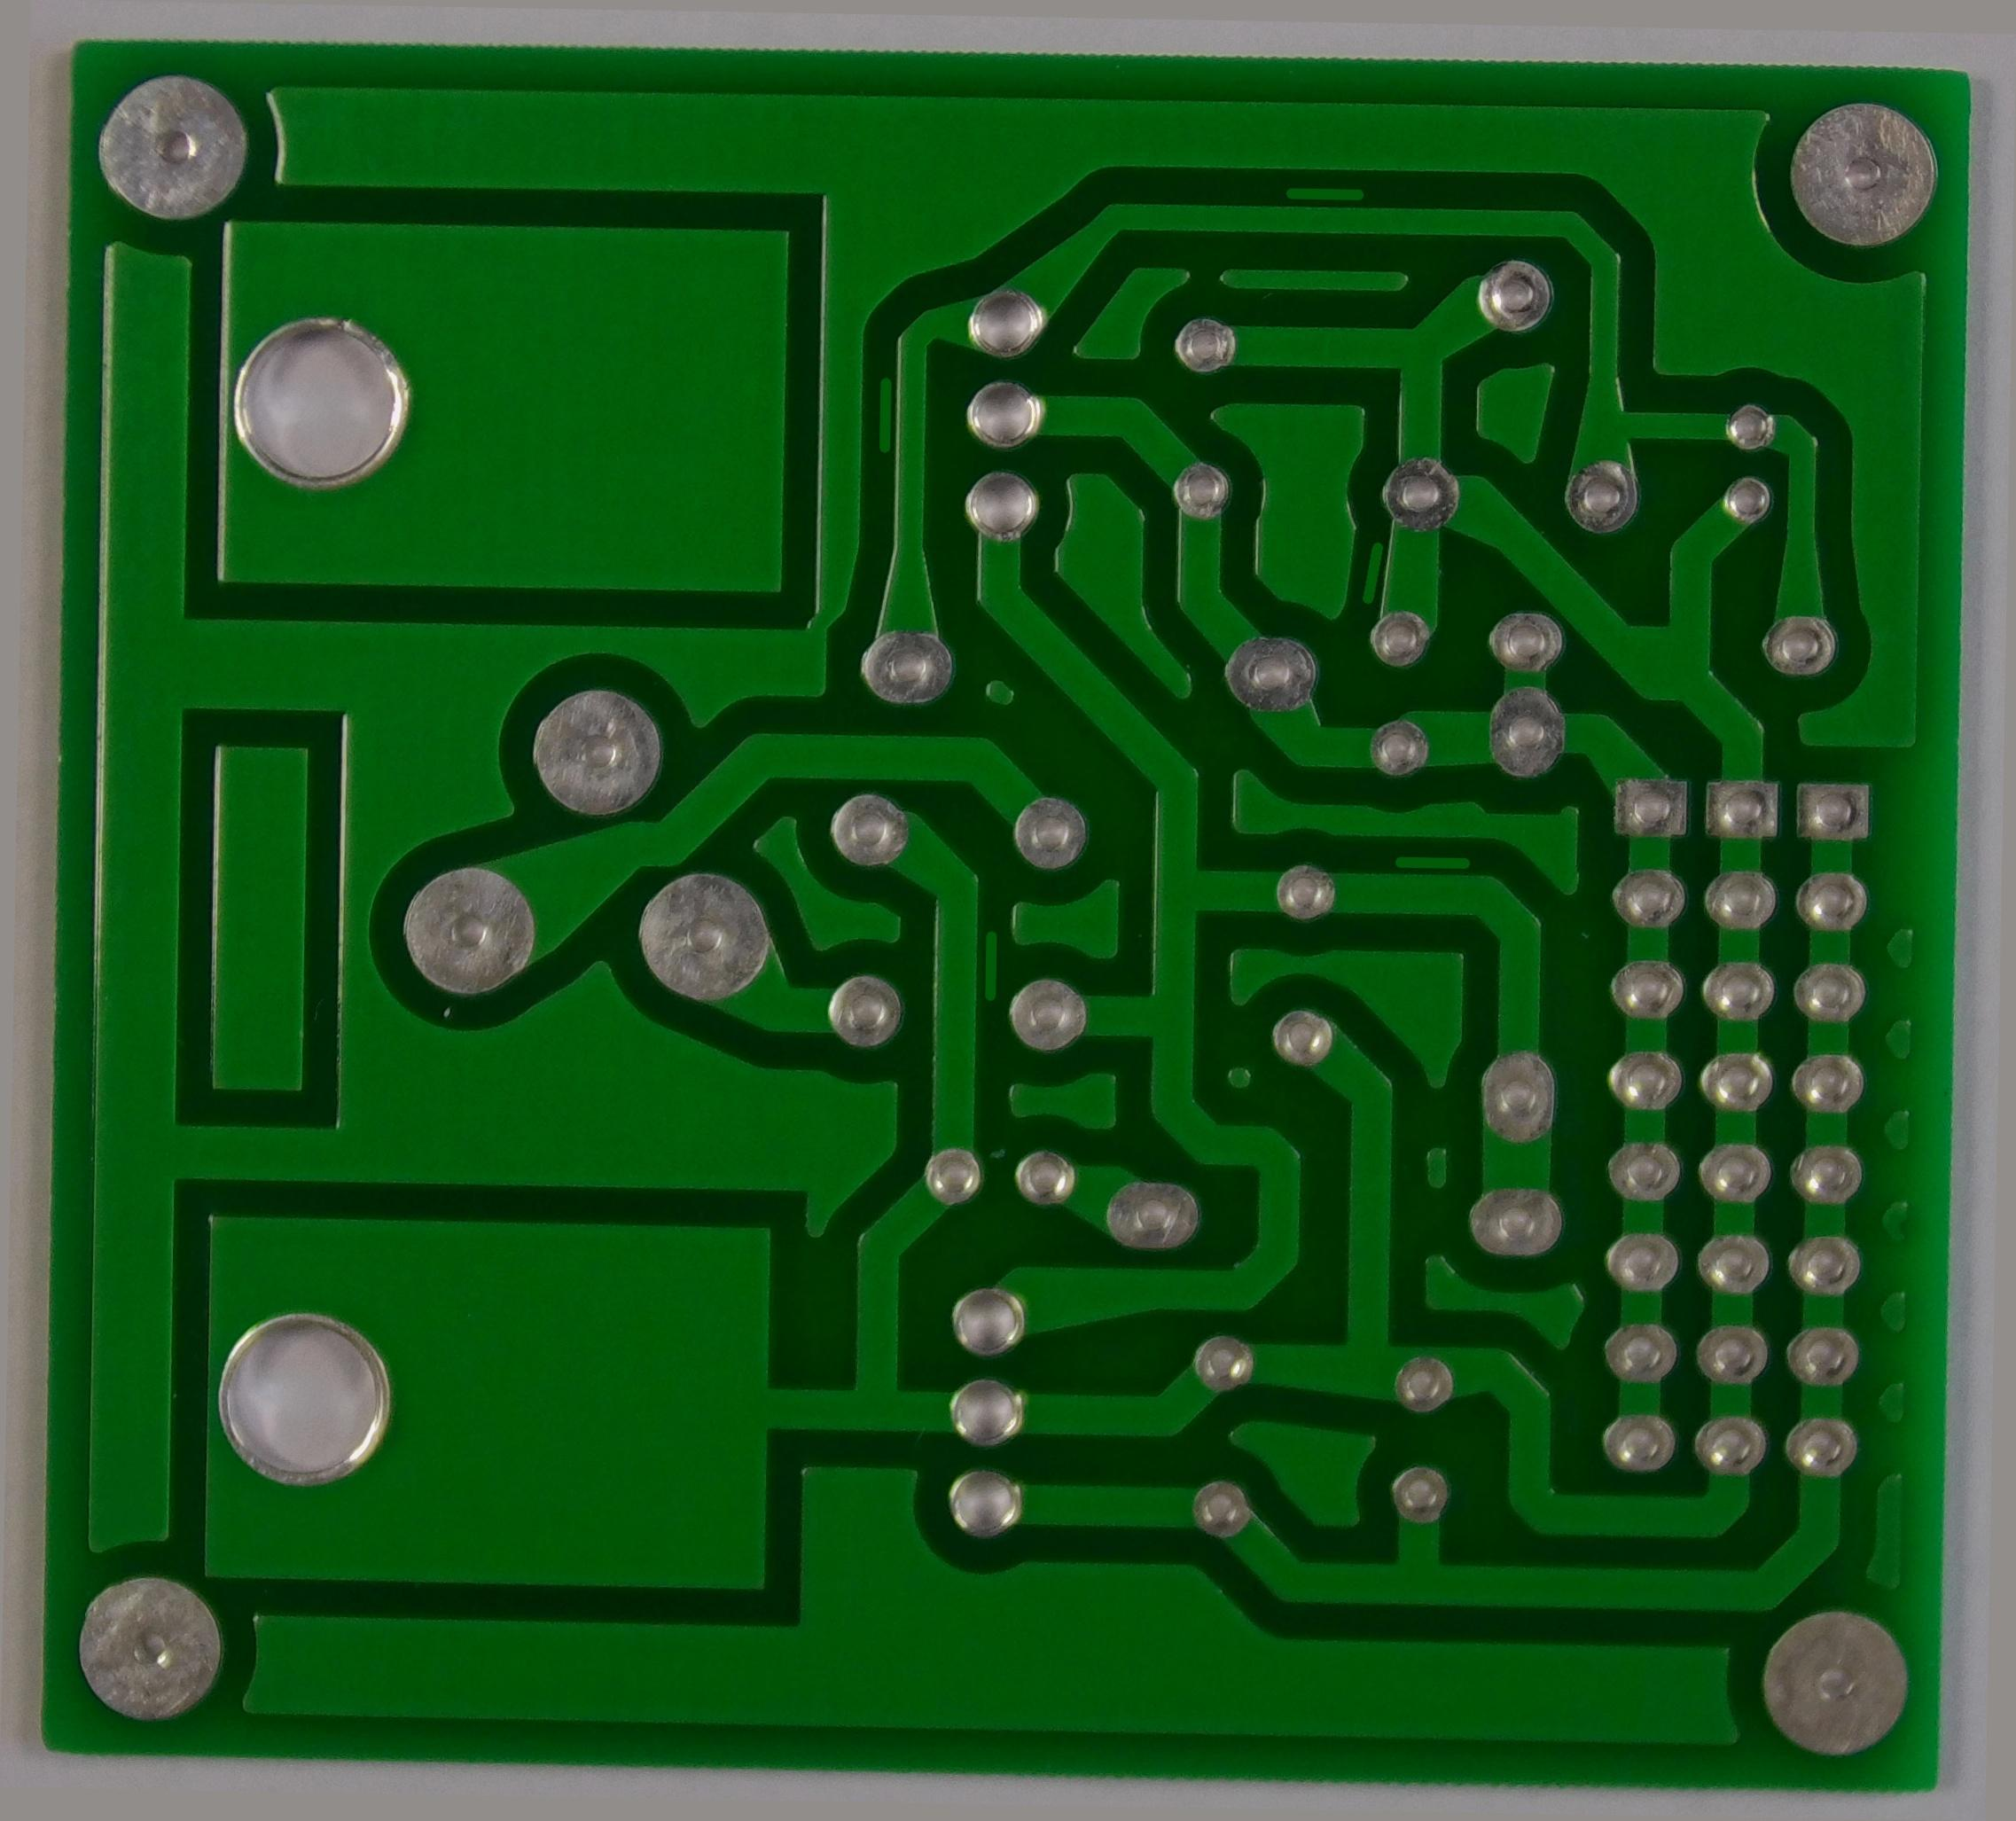spurious_copper: (1264, 162, 1380, 216), (1342, 530, 1401, 613), (1384, 839, 1480, 887), (966, 917, 1012, 1015), (862, 371, 903, 457)
